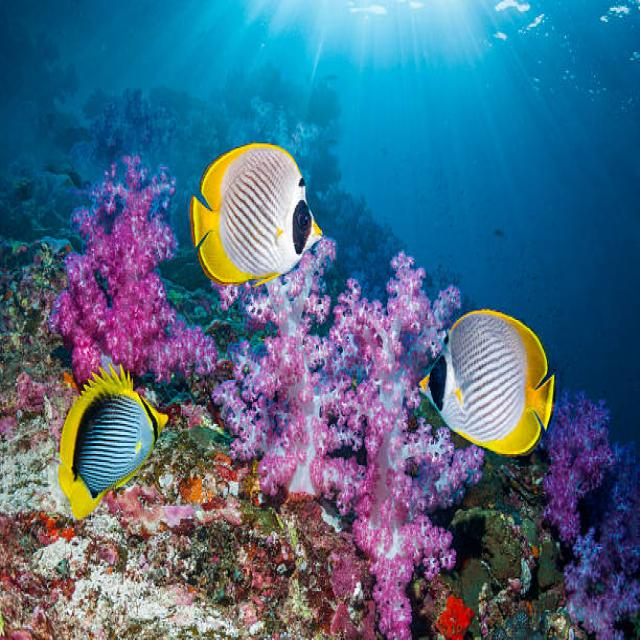ButterflyFish: (420, 312, 553, 456), (193, 144, 322, 286), (59, 369, 169, 521)
